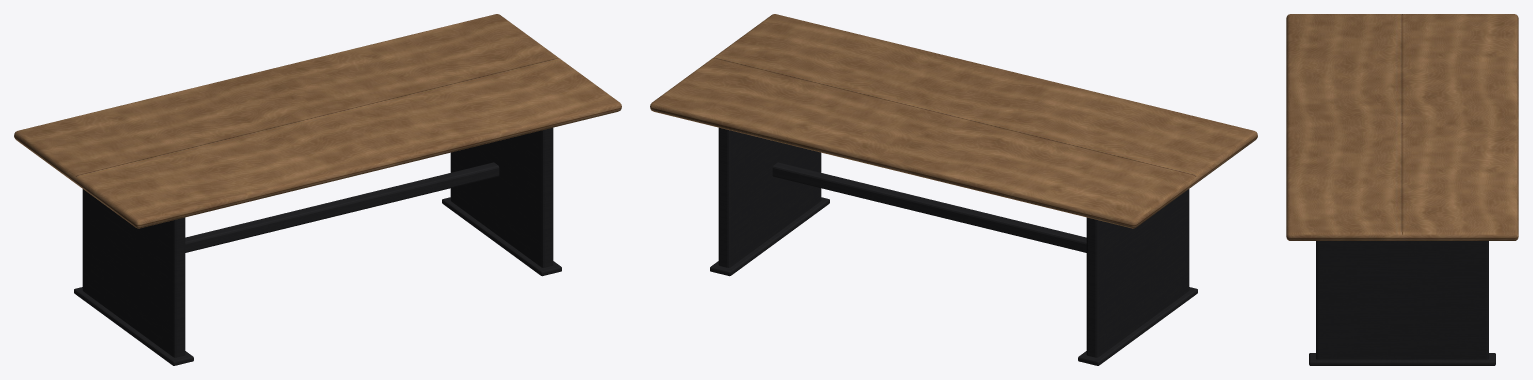
File: dining_table.glb
3 views of the same model, side by side, from view 1: azimuth 30°, elevation 25°; view 2: azimuth 150°, elevation 25°; view 3: azimuth 270°, elevation 25° (orthographic). The views are drawn at different scales.
Parts seen in each view (by area): view 1: dining_table; view 2: dining_table; view 3: dining_table.
Boxes of the visible parts, <box> form: dining_table: <box>14,14,621,365</box>; dining_table: <box>650,14,1257,365</box>; dining_table: <box>1286,14,1518,365</box>.
Bounding box in the file's own units: 2.3 × 0.75 × 1.02.
Materials: 2 (2 with a texture image).
